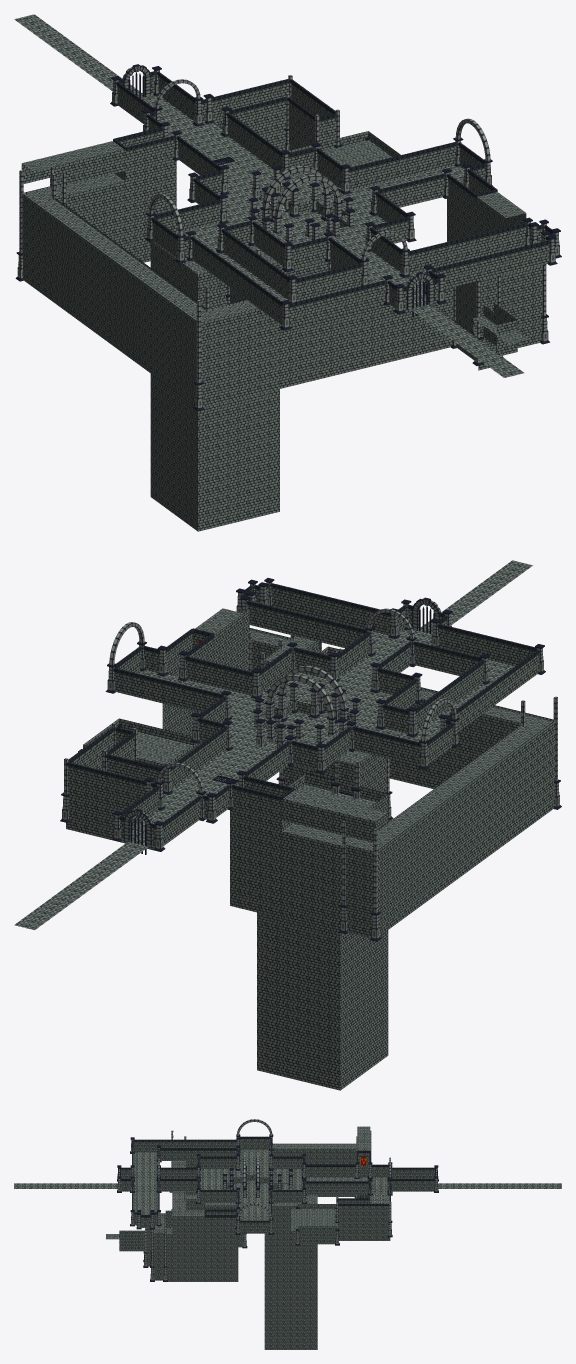
File: Level2.fbx
3 views of the same model, one above another, from view 1: azimuth 30°, elevation 25°; view 2: azimuth 150°, elevation 25°; view 3: azimuth 270°, elevation 25° (orthographic). The views are drawn at different scales.
Visible parts, largest first — view 1: level2; view 2: level2; view 3: level2.
Part boxes in pixels (x1,y1,x2,y2): level2: [14, 14, 561, 531]; level2: [14, 560, 561, 1090]; level2: [14, 1119, 561, 1349].
Bounding box in the file's own units: 5216 × 4931 × 12442.
